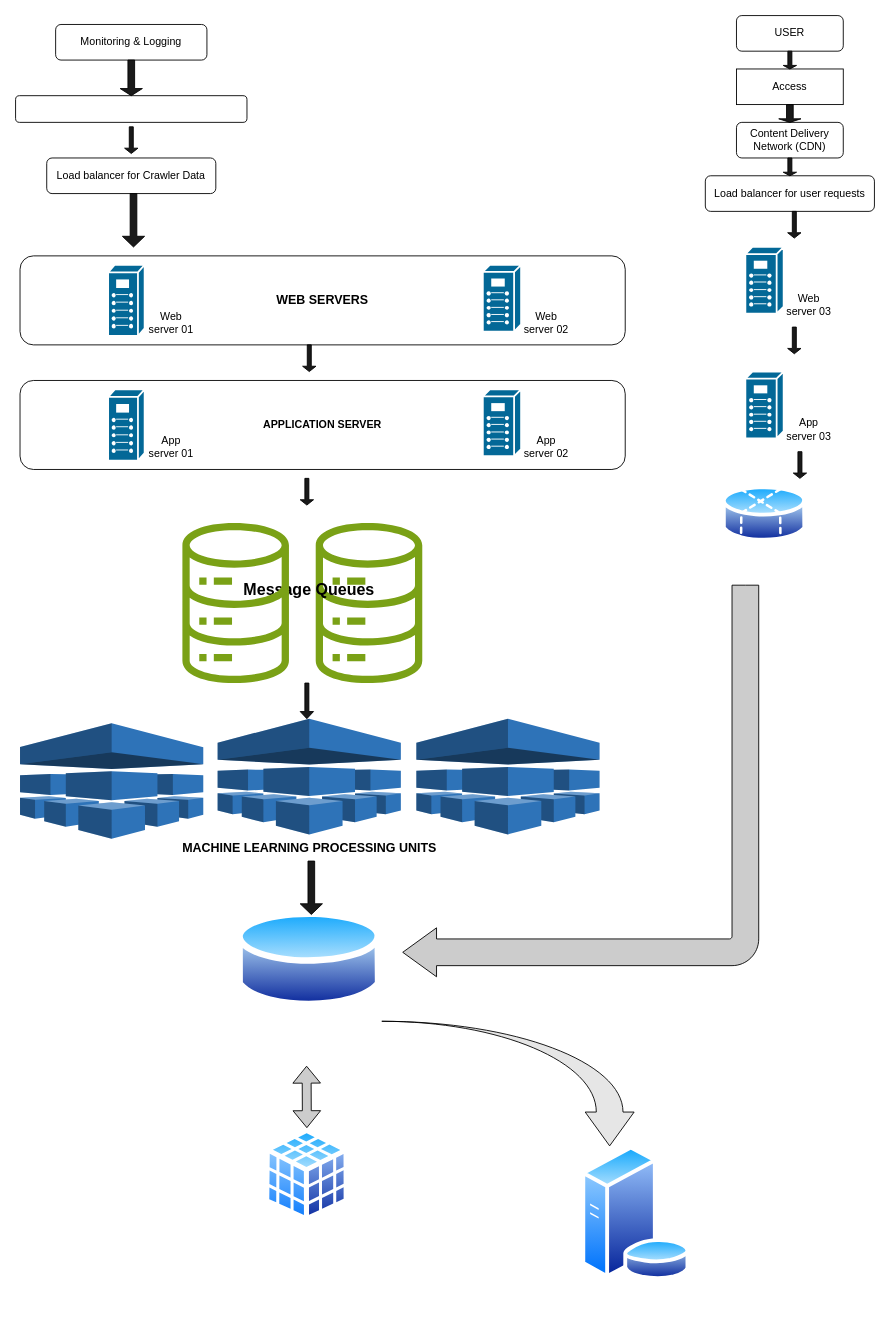
The diagram is 890 pixels wide and 1320 high, and some of its shapes have lost their labels. The shapes that lost their labels are listed below. From the top down, each one's centre as x and y in pixels, then its label:
At point (131, 108): "Crawlers(Number of crawlers cn be customized as needed)".
At point (764, 513): "Database for user requests(cache)".
At point (308, 958): "PRIMARY db cluster".
At point (306, 1175): "Backup".
At point (635, 1212): "Secondary storage server".
